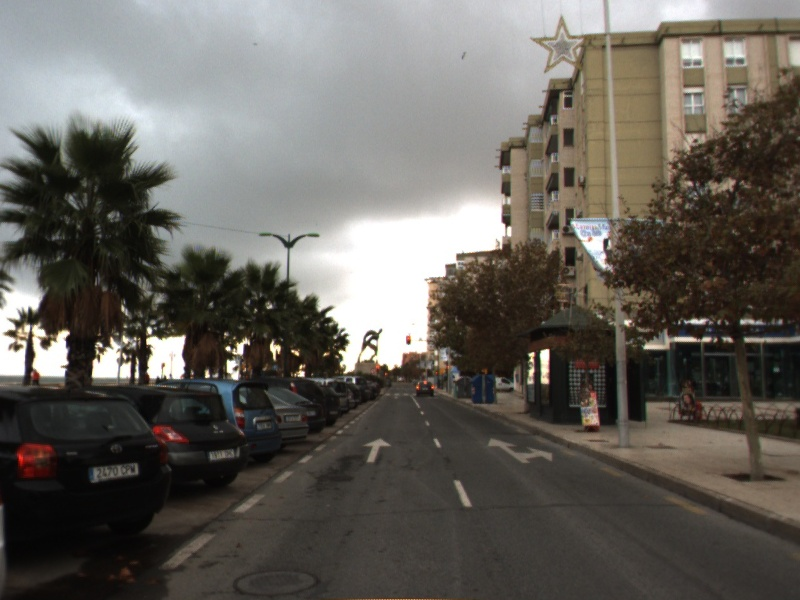STRAIGHT: (361, 436, 393, 464)
STRAIGHT_RIGHT: (486, 436, 554, 465)
